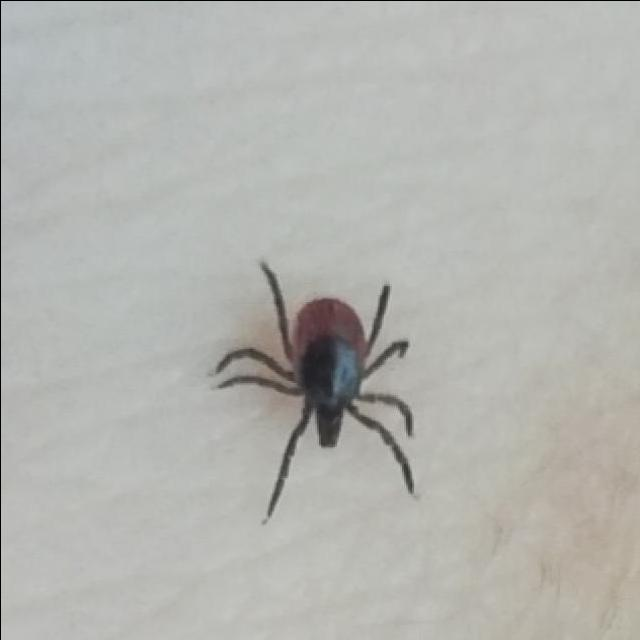Ixodes Ricinus-F: (211, 260, 415, 516)
